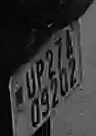0: (29, 100, 43, 127), (60, 67, 69, 97)
2: (44, 50, 57, 79), (69, 57, 78, 89), (51, 78, 59, 110)
7: (53, 37, 65, 70)
9: (40, 88, 49, 119)
A: (62, 31, 78, 59)
P: (37, 57, 46, 92)
U: (25, 68, 36, 99)
